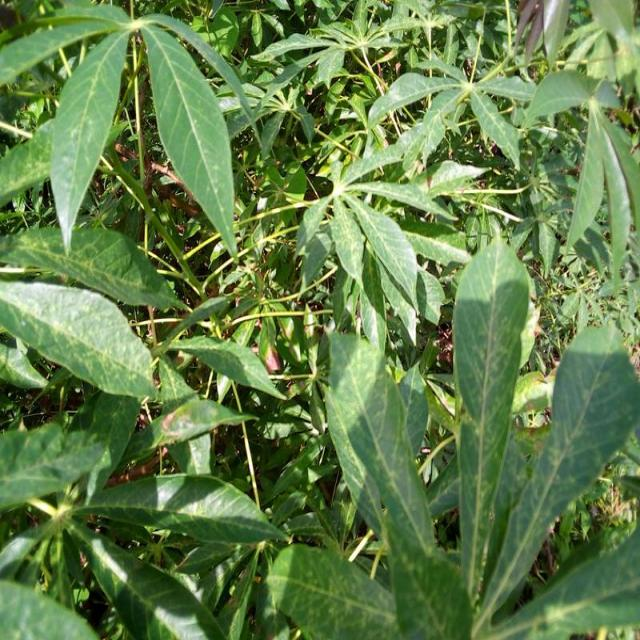cassava leaf: (450, 234, 530, 607), (139, 16, 238, 260), (48, 24, 131, 254), (0, 278, 156, 400)
